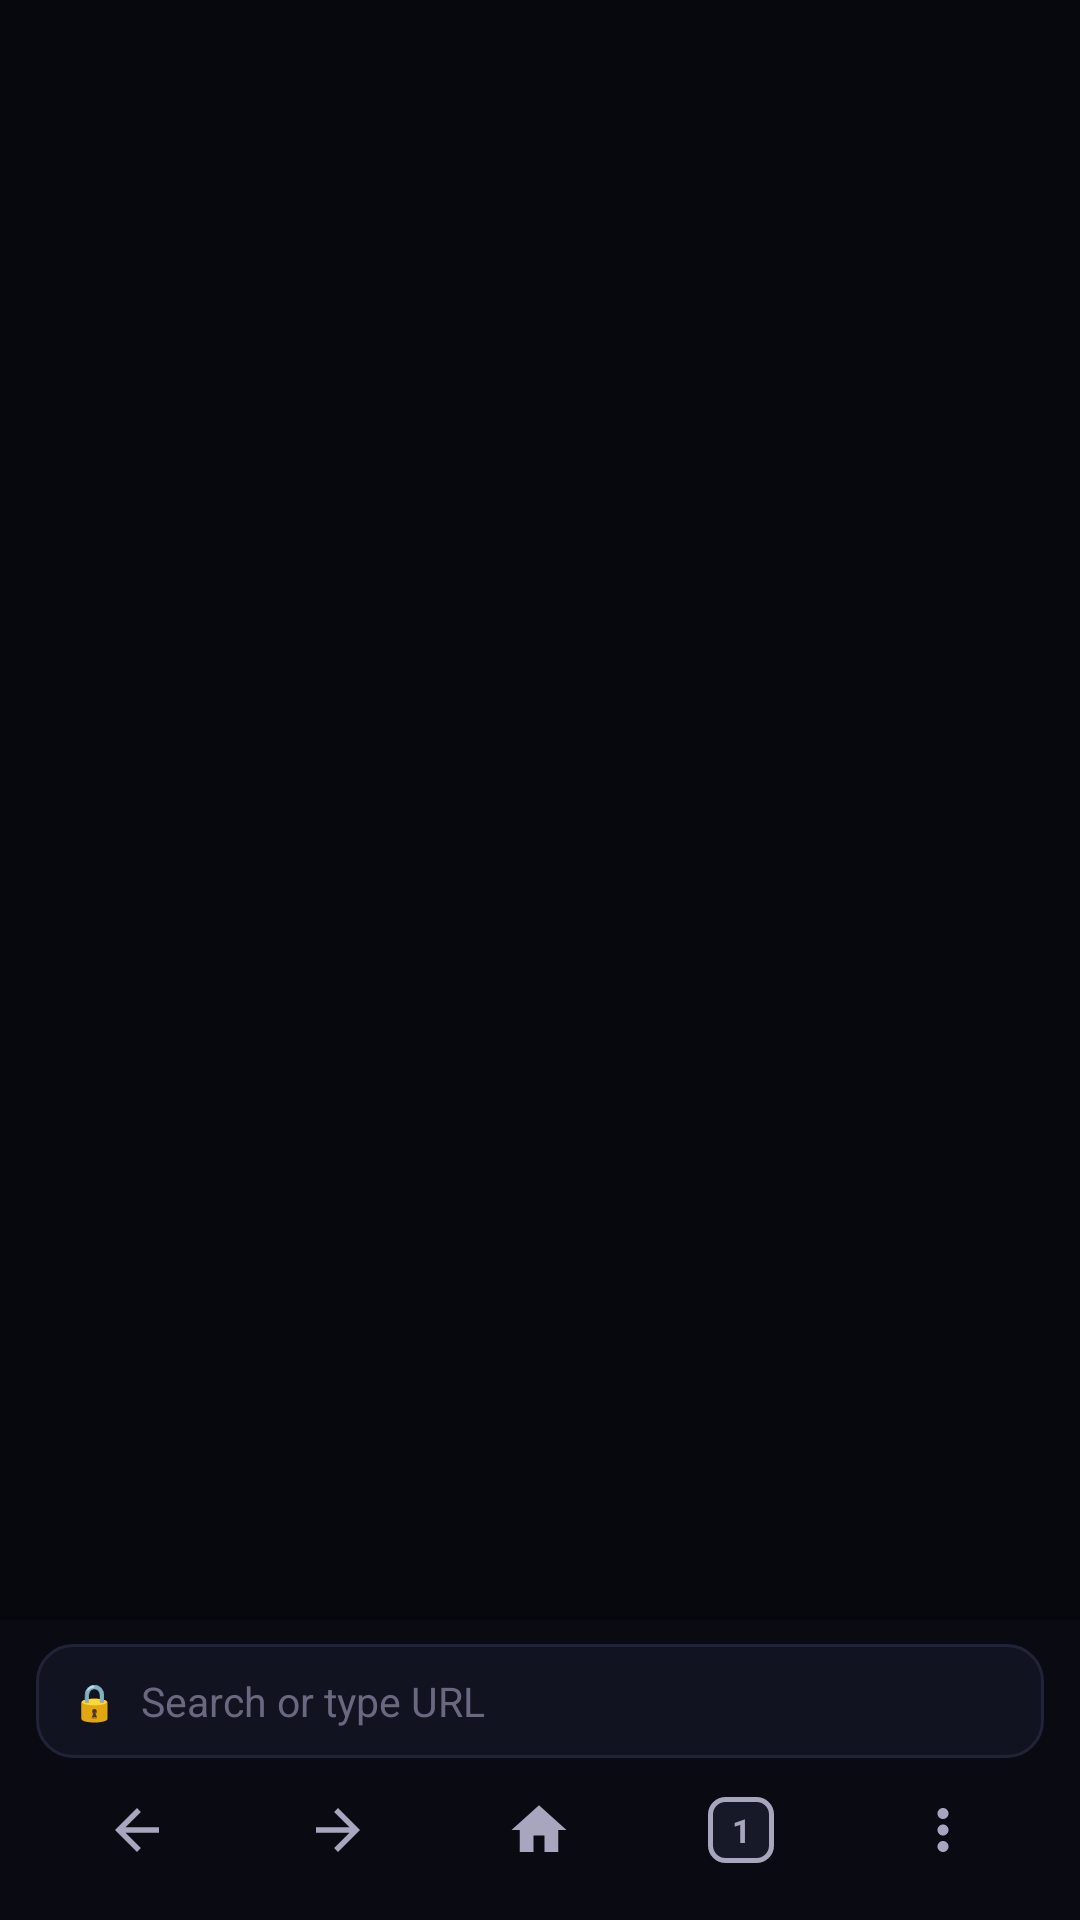

Icons on this 1080px×1920px Android screen, each with the point to tap as point (x, y):
Back: point (137, 1830)
Forward: point (338, 1830)
Home: point (539, 1828)
Menu: point (943, 1830)
